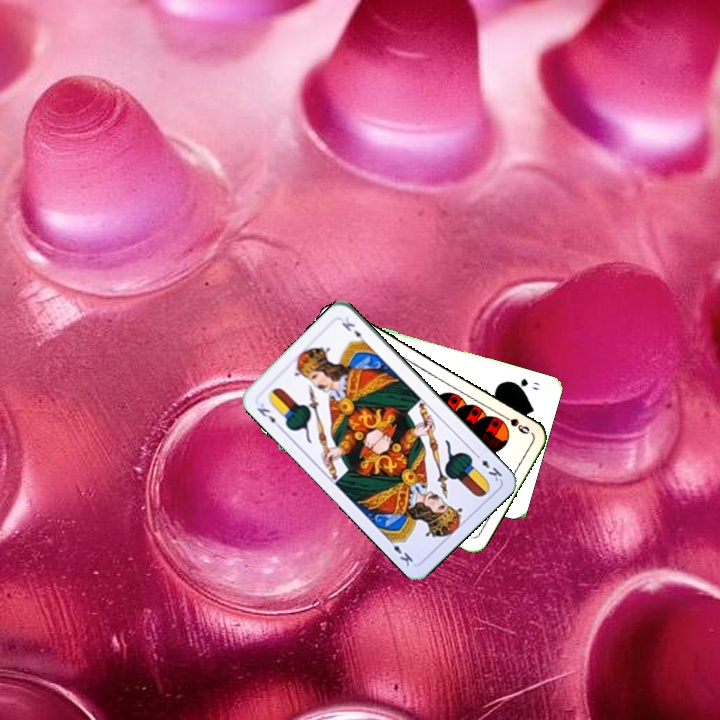EK: (471, 450, 505, 484), (253, 399, 284, 432)
GO: (506, 374, 543, 393)
S9: (496, 410, 533, 437)
